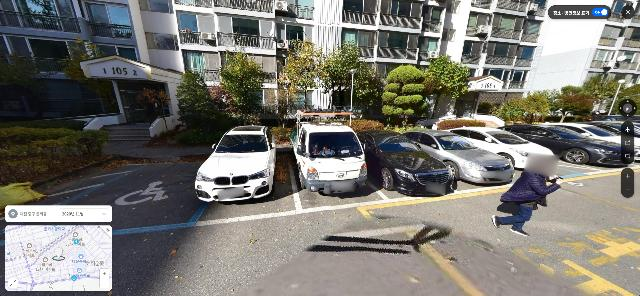other: (316, 40, 376, 120), (219, 44, 266, 122), (278, 38, 323, 112), (421, 53, 472, 117), (382, 65, 429, 129), (176, 68, 213, 131), (492, 88, 551, 125), (553, 85, 596, 123)
